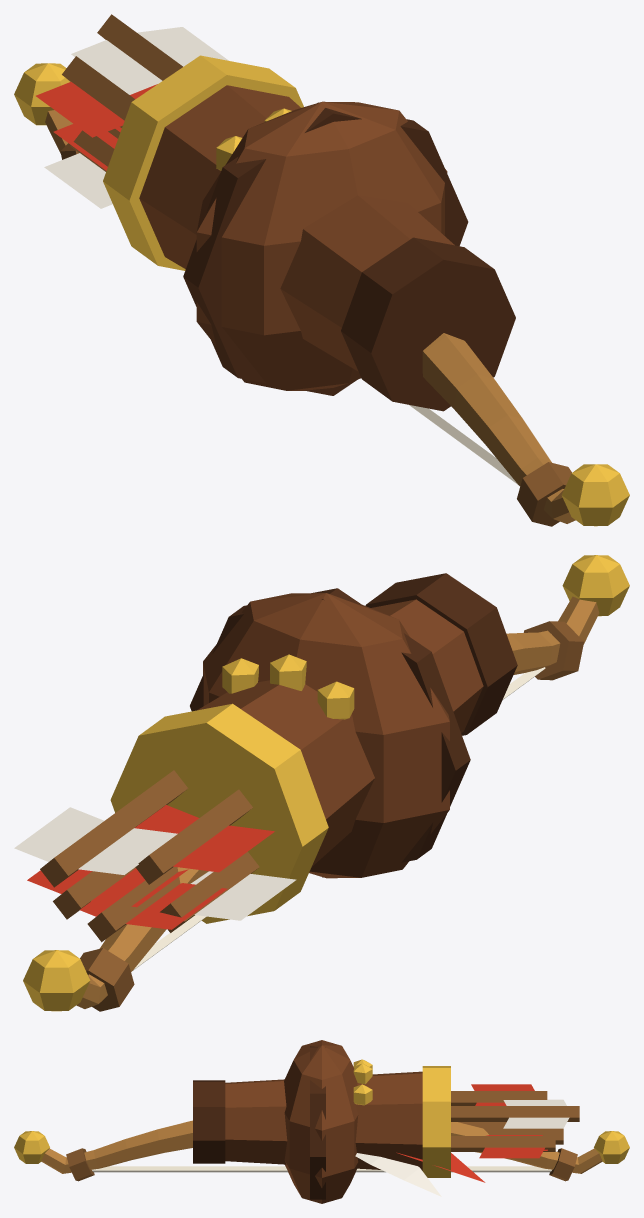
Rendered from archer_gear.glb.
3 views of the same model, one above another, from view 1: azimuth 30°, elevation 25°; view 2: azimuth 150°, elevation 25°; view 3: azimuth 270°, elevation 25° (orthographic). The views are drawn at different scales.
Visible parts, largest first — view 1: Quiver, Pad, Bow; view 2: Quiver, Pad, Bow; view 3: Quiver, Pad, Bow, Plume.
Part boxes in pixels (bbox=[...]): Quiver: bbox=[36, 14, 515, 411]; Pad: bbox=[183, 101, 468, 395]; Bow: bbox=[14, 63, 629, 526]; Quiver: bbox=[14, 573, 517, 942]; Pad: bbox=[190, 588, 470, 878]; Bow: bbox=[23, 555, 629, 1011]; Quiver: bbox=[193, 1066, 579, 1177]; Pad: bbox=[284, 1040, 372, 1203]; Bow: bbox=[14, 1120, 629, 1181]; Plume: bbox=[355, 1152, 485, 1196].
Size of the model in its own units: 0.41 by 0.42 by 1.53.
